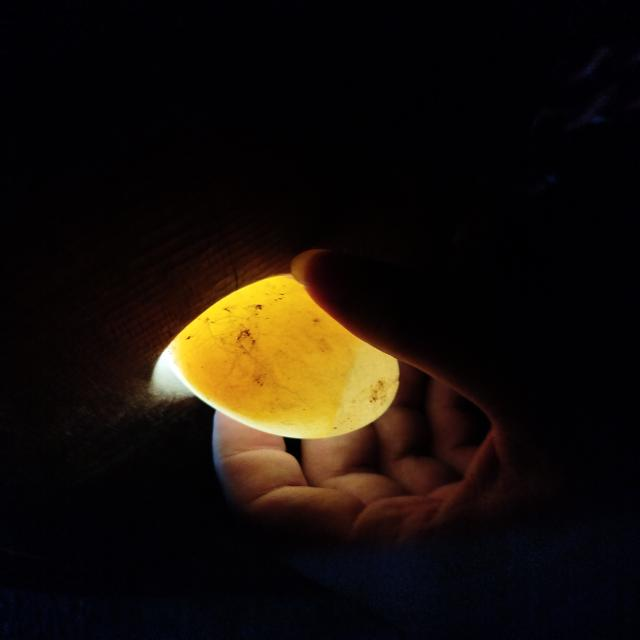Gema Quebrada: (175, 275, 364, 424)
Rachadura: (184, 301, 293, 392)
